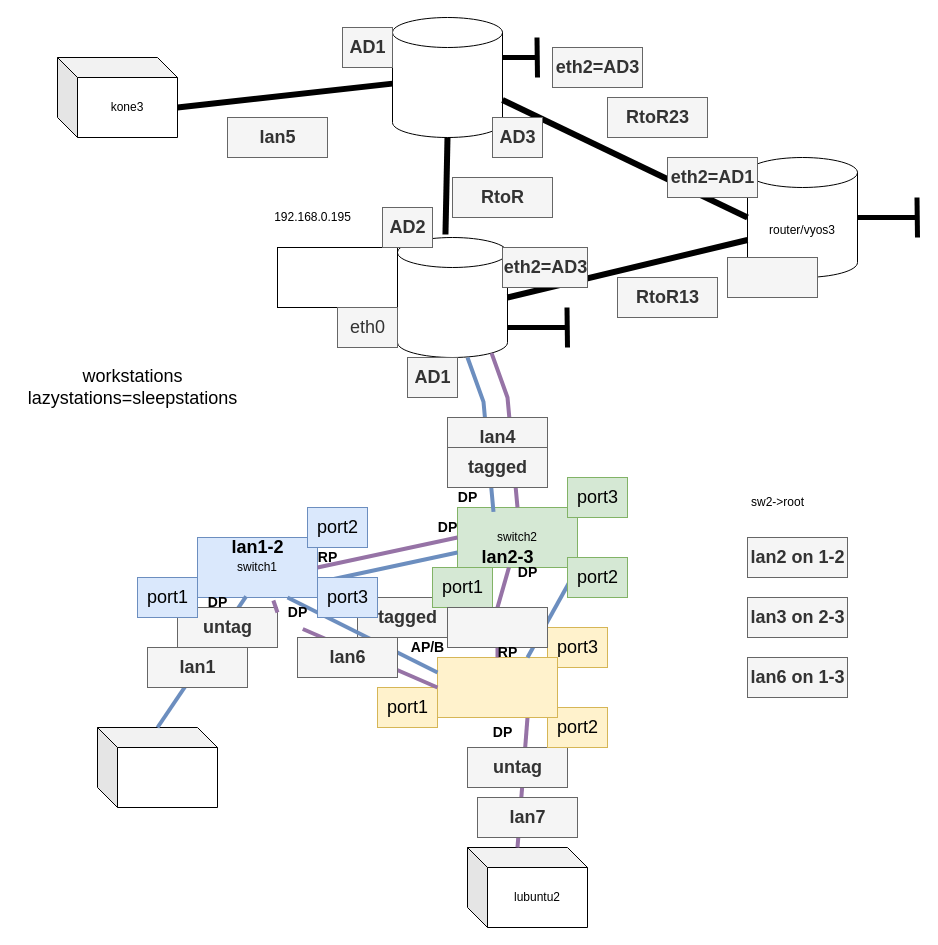
This 938x945 diagram has some shape labels left out. Each missing label, with the centre of its shape:
08:00:27:f6:24:03 eth0: point (337, 277)
eth3=AD2: point (772, 277)
lan3: point (497, 627)
lubuntu1: point (157, 767)
router/vyos: point (452, 297)
router/vyos2: point (447, 77)
switch3: point (497, 687)
